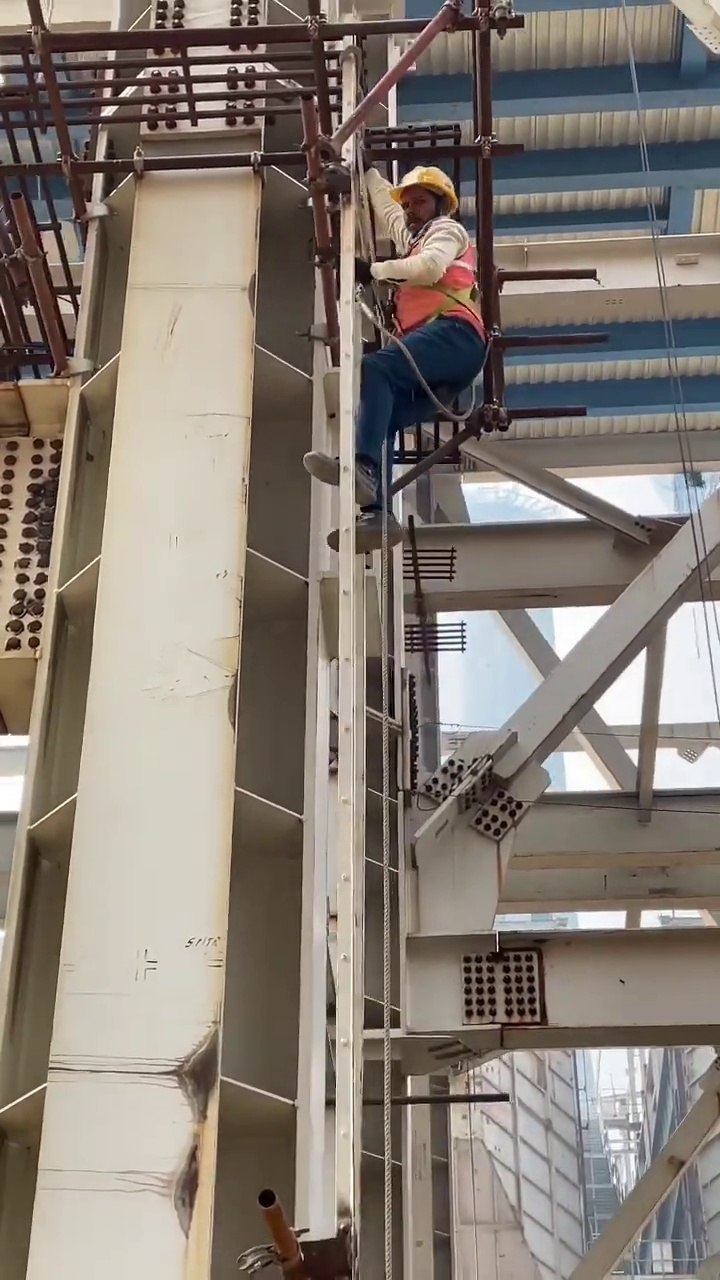Helmet: (398, 167, 464, 210)
Person: (309, 167, 487, 564)
Safety_Harness: (383, 221, 489, 420)
Safety_shoes: (303, 444, 382, 510), (326, 510, 405, 553)
